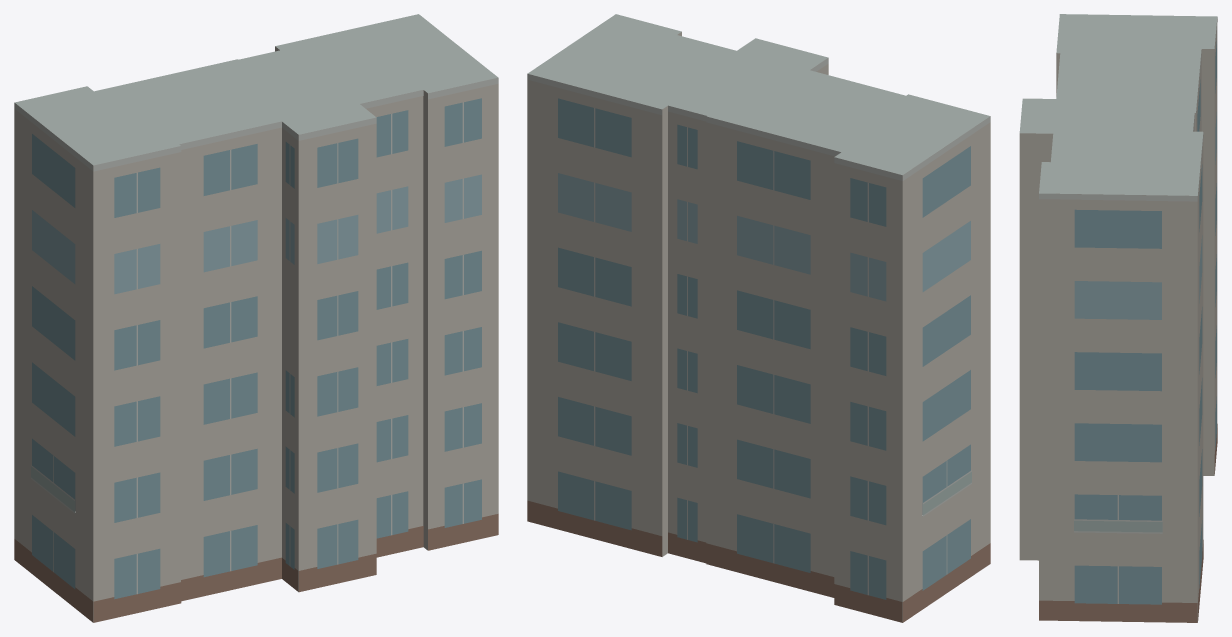
File: survey-upis-32664492.glb
3 views of the same model, side by side, from view 1: azimuth 30°, elevation 25°; view 2: azimuth 150°, elevation 25°; view 3: azimuth 270°, elevation 25° (orthographic). The views are drawn at different scales.
Parts seen in each view (by area): view 1: survey-upis-32664492.tmp; view 2: survey-upis-32664492.tmp; view 3: survey-upis-32664492.tmp.
Boxes of the visible parts, x1,y1,x2,y2 form: survey-upis-32664492.tmp: (14, 14, 498, 622); survey-upis-32664492.tmp: (527, 14, 990, 622); survey-upis-32664492.tmp: (1019, 14, 1217, 622).
Size of the model in its own units: 16.73 by 18.3 by 7.69.
